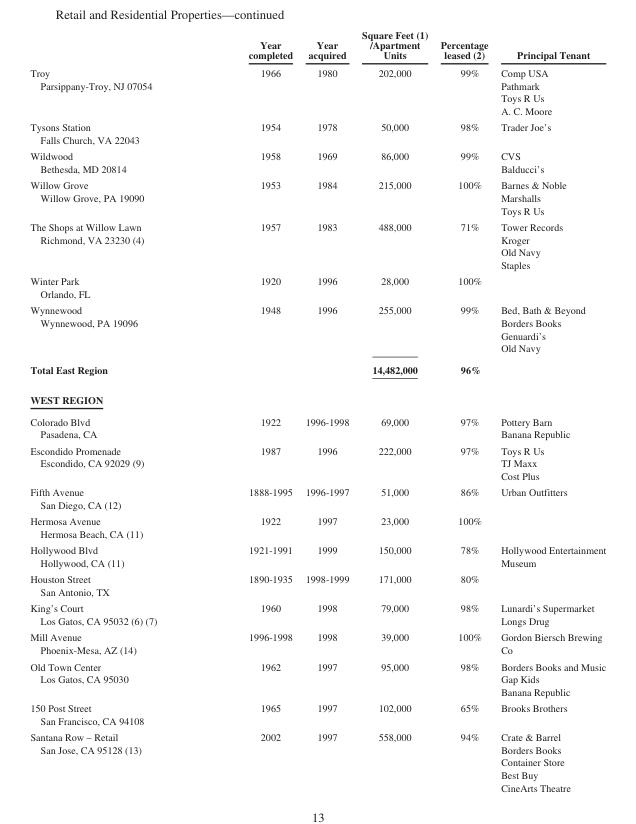table: (29, 28, 605, 792)
table column: (29, 28, 202, 792), (493, 28, 605, 792), (202, 28, 298, 792), (354, 28, 433, 792), (433, 28, 493, 792), (298, 28, 354, 792)
table column header: (29, 28, 605, 63)
table projected row header: (29, 384, 605, 410)
table row: (29, 728, 605, 792), (29, 301, 605, 358), (29, 63, 605, 118), (29, 218, 605, 272), (29, 176, 605, 218), (29, 441, 605, 483), (29, 657, 605, 699), (29, 28, 605, 63), (29, 410, 605, 441), (29, 118, 605, 147), (29, 147, 605, 176), (29, 272, 605, 301), (29, 483, 605, 512), (29, 512, 605, 541), (29, 541, 605, 570), (29, 570, 605, 599), (29, 599, 605, 628), (29, 628, 605, 657), (29, 699, 605, 728), (29, 358, 605, 384), (29, 384, 605, 410)
